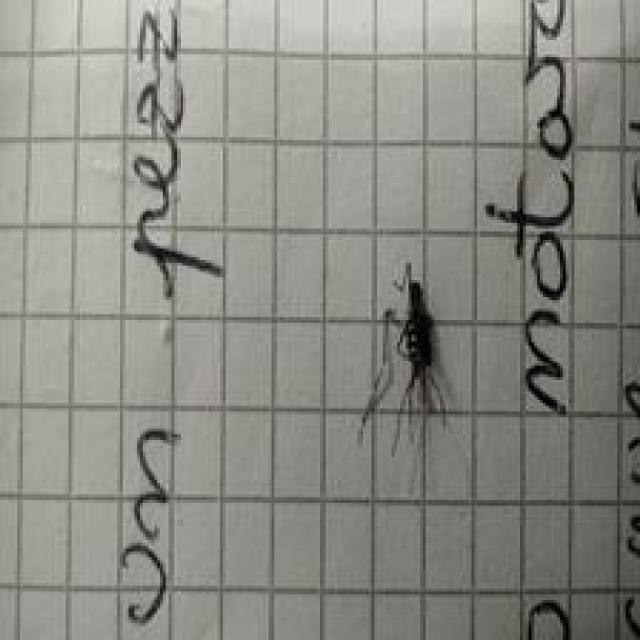Aedes albopictus: (356, 262, 456, 458)
